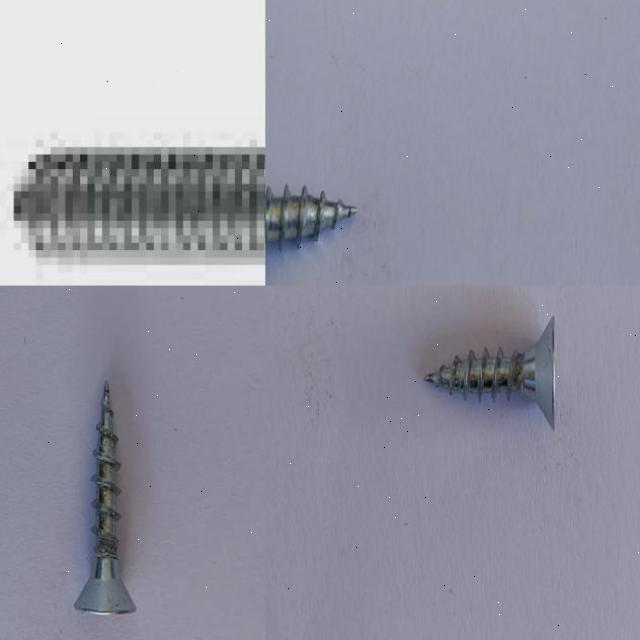Screw: (14, 147, 265, 250), (425, 315, 555, 428), (74, 379, 136, 614), (265, 184, 356, 250)
